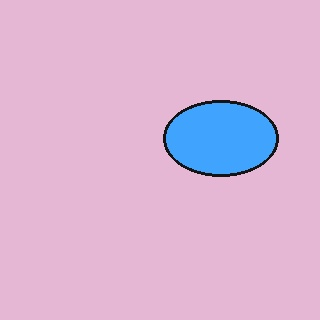circle_target: (164, 101, 278, 176)
